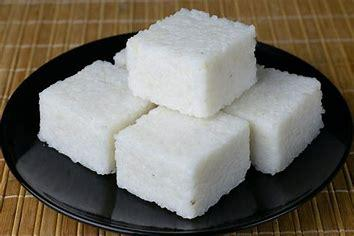Kiribath: (43, 5, 315, 201)
